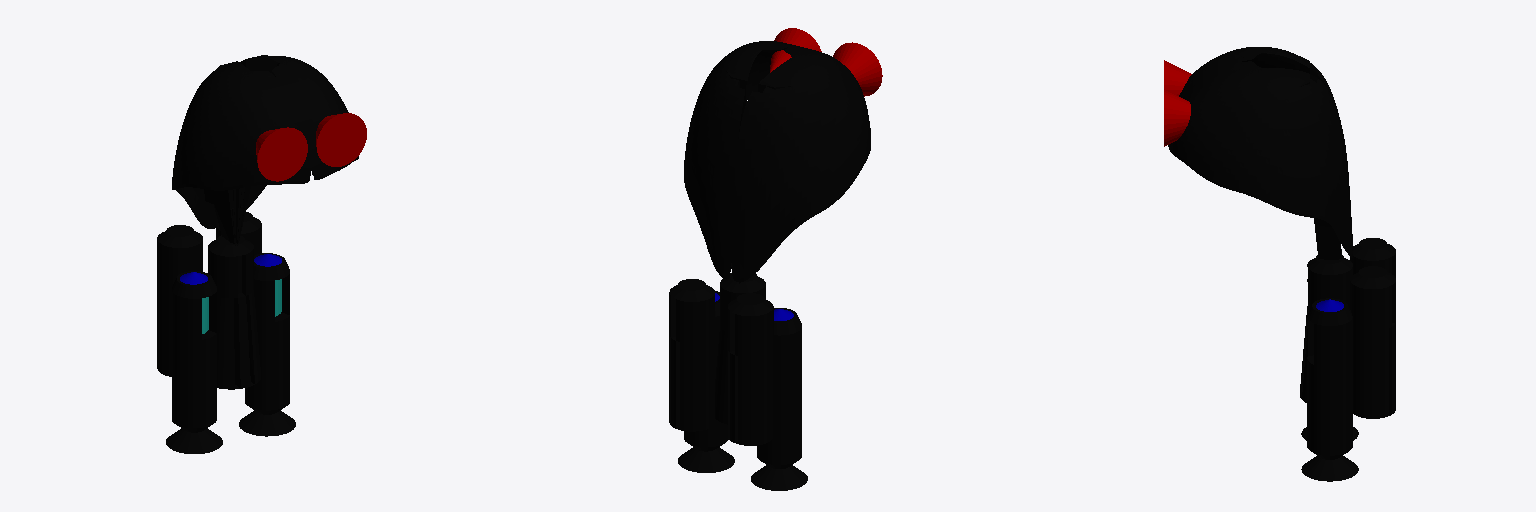
The model's file is robot.obj.
3 renders of one model, left to right at view 1: azimuth 30°, elevation 25°; view 2: azimuth 150°, elevation 25°; view 3: azimuth 270°, elevation 25°, orthographic.
Parts seen in each view (by area): view 1: Sphere, Cylinder.002_Cylinder.009, Cylinder.001_Cylinder.003, Cylinder_Cylinder.002, Cylinder.004_Cylinder.008, Cone.001, Cone, Cylinder.003_Cylinder.007; view 2: Sphere, Cylinder.004_Cylinder.008, Cylinder.003_Cylinder.007, Cylinder.002_Cylinder.009, Cylinder.001_Cylinder.003, Cylinder_Cylinder.002, Cone.001, Cone; view 3: Sphere, Cylinder.001_Cylinder.003, Cylinder.003_Cylinder.007, Cylinder_Cylinder.002, Cylinder.004_Cylinder.008, Cone, Cone.001.
Part boxes in pixels (x1,y1,x2,y2): Sphere: (172, 55, 358, 245); Cylinder.002_Cylinder.009: (166, 271, 222, 453); Cylinder.001_Cylinder.003: (239, 253, 295, 436); Cylinder_Cylinder.002: (208, 235, 260, 389); Cylinder.004_Cylinder.008: (157, 225, 202, 376); Cone.001: (256, 127, 307, 181); Cone: (316, 113, 366, 166); Cylinder.003_Cylinder.007: (216, 212, 261, 255); Sphere: (684, 41, 870, 283); Cylinder.004_Cylinder.008: (728, 293, 773, 445); Cylinder.003_Cylinder.007: (669, 279, 714, 431); Cylinder.002_Cylinder.009: (751, 308, 807, 490); Cylinder.001_Cylinder.003: (678, 291, 734, 472); Cylinder_Cylinder.002: (715, 273, 765, 424); Cone.001: (833, 42, 882, 96); Cone: (770, 28, 821, 72); Sphere: (1168, 47, 1352, 259); Cylinder.001_Cylinder.003: (1301, 298, 1358, 481); Cylinder.003_Cylinder.007: (1350, 266, 1395, 418); Cylinder_Cylinder.002: (1300, 255, 1352, 402); Cylinder.004_Cylinder.008: (1350, 238, 1395, 277); Cone: (1164, 89, 1190, 146); Cone.001: (1164, 60, 1191, 95).
Bounding box in the file's own units: 2.24 × 5.12 × 2.75.